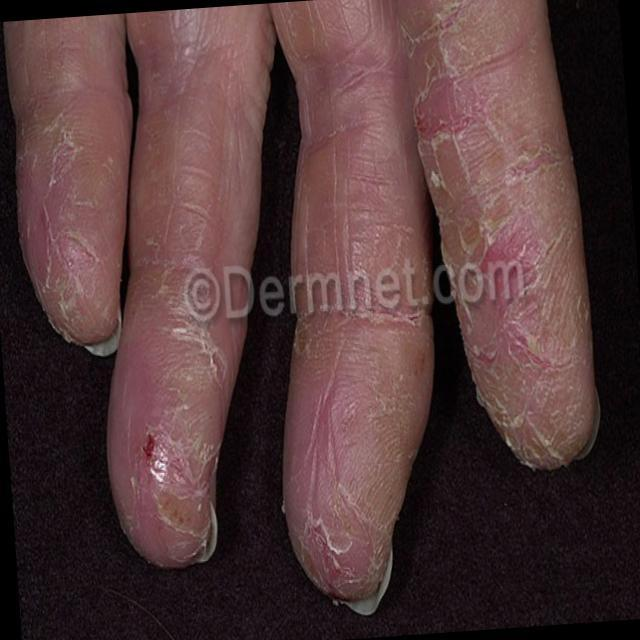Eczema: (409, 1, 602, 455), (306, 122, 409, 590), (112, 220, 219, 564), (22, 80, 124, 312)
